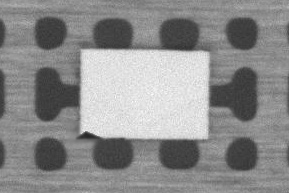DIE_BROKEN: (74, 130, 101, 138)
